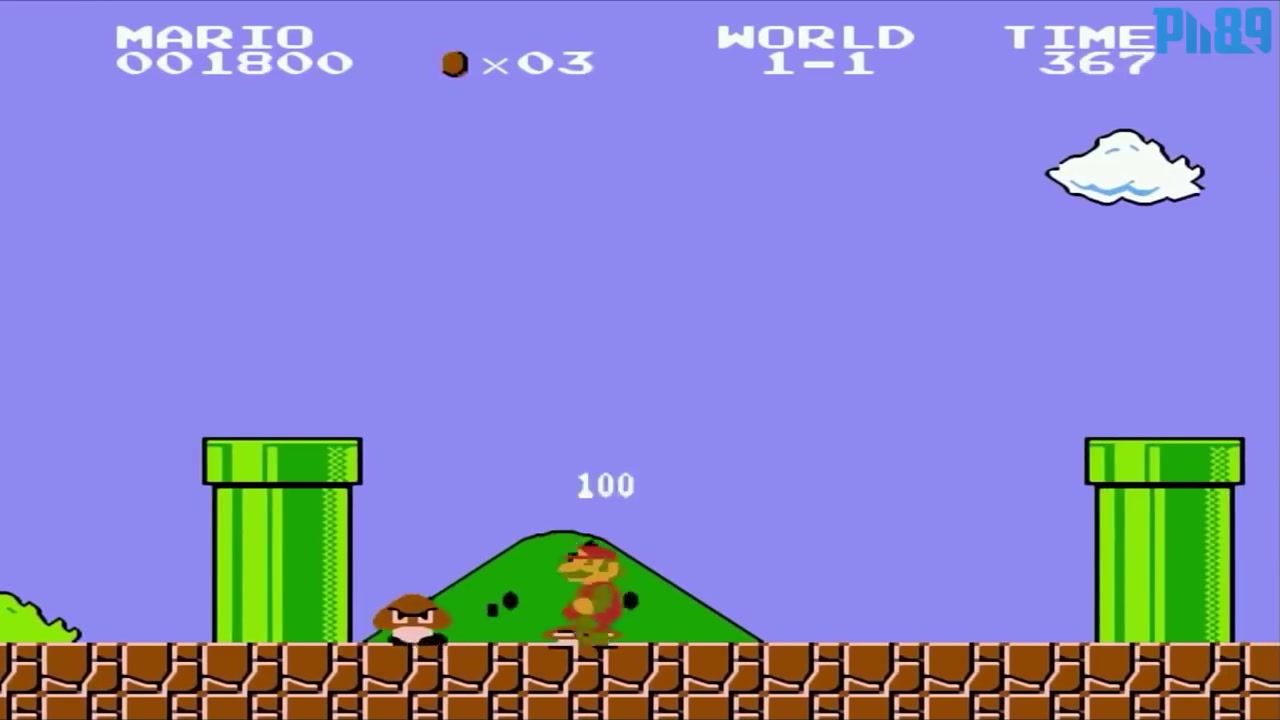mario: (544, 539, 633, 644)
